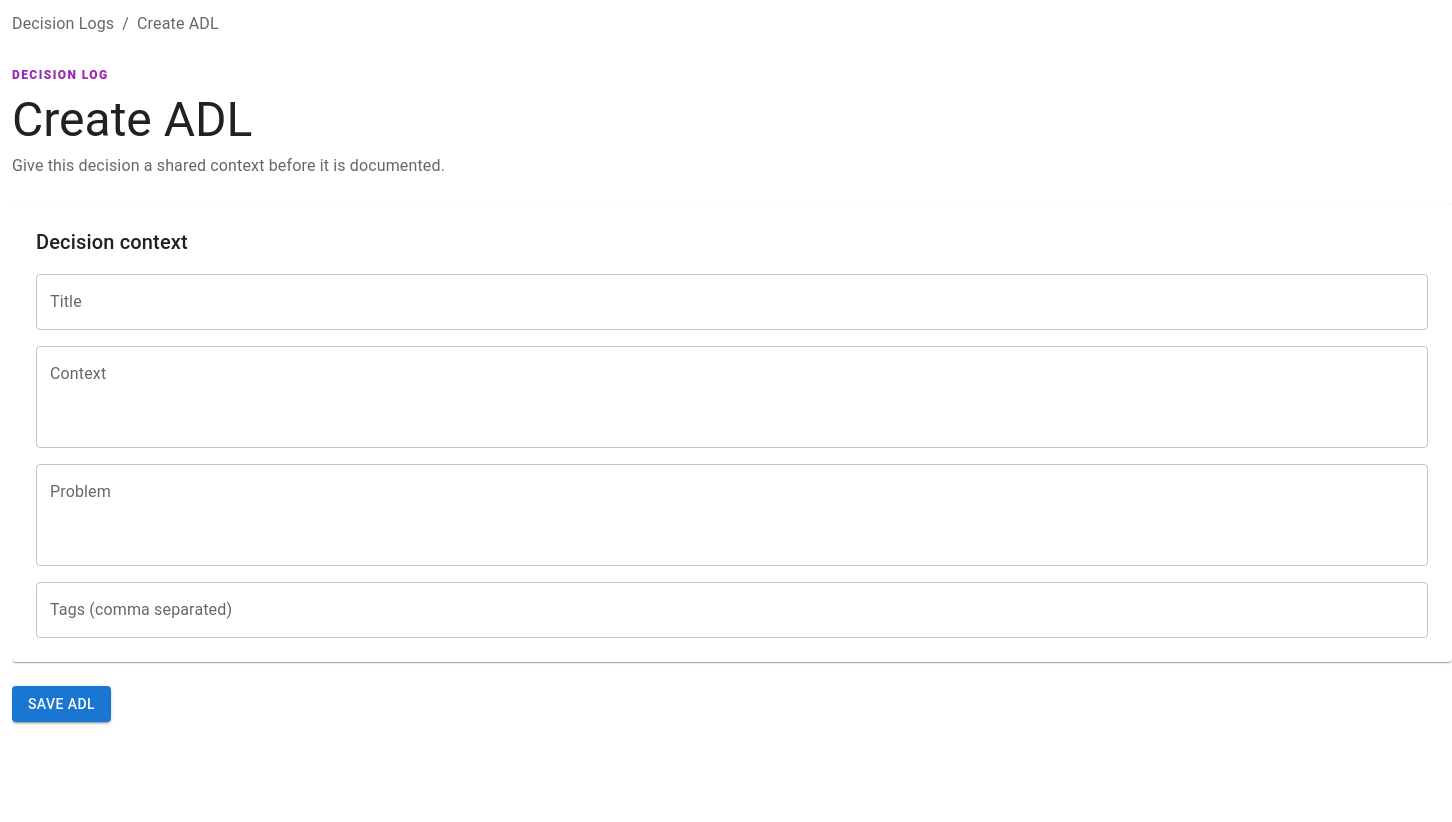
ADL views › shows form validation before creating an ADL
The width and height of the screenshot is (1452, 822).
Click the button "Save ADL" at (62, 704), box [12, 686, 111, 722]
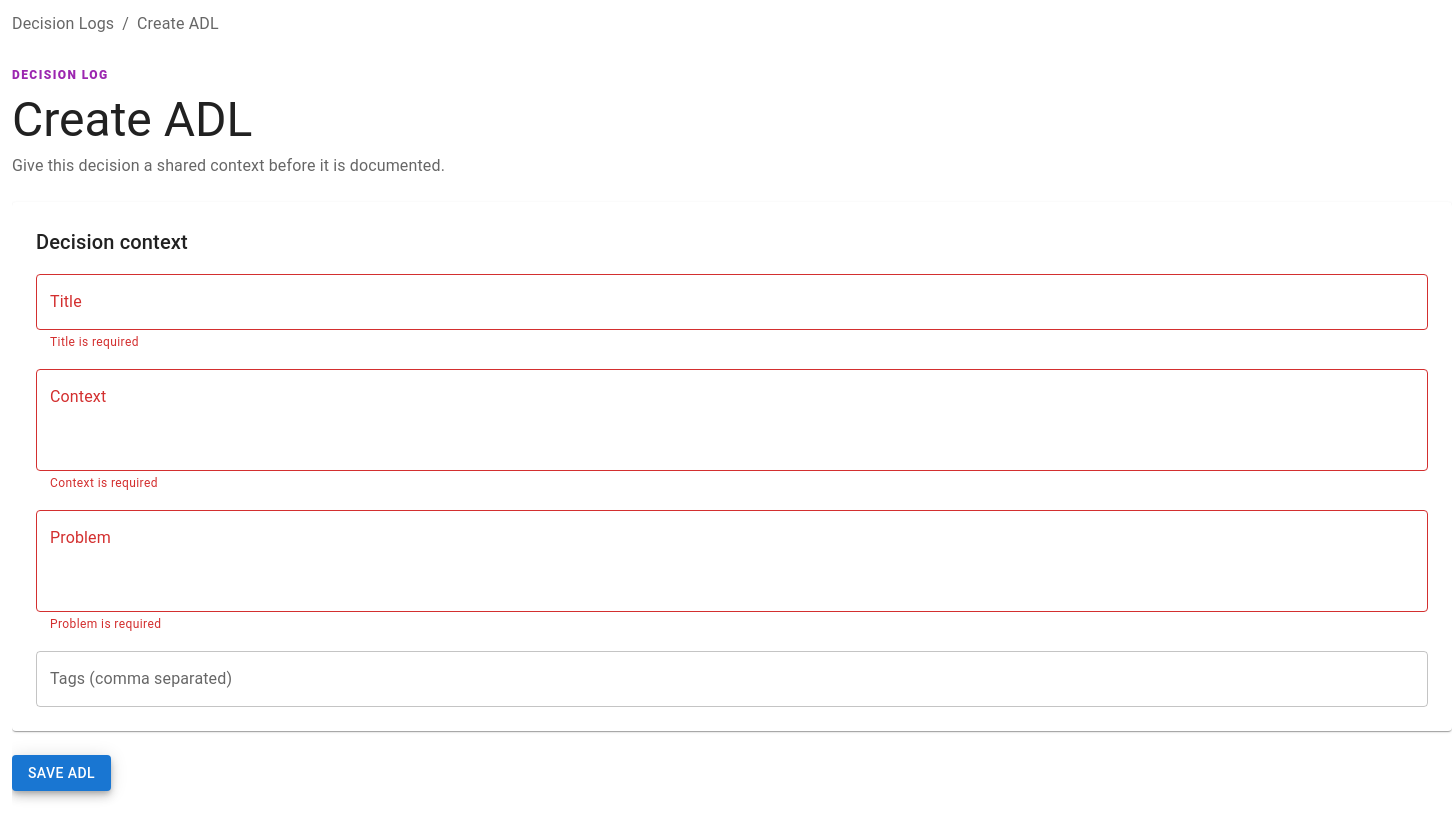
Expected: the text "Title is required" is shown, [50, 335, 139, 349]
